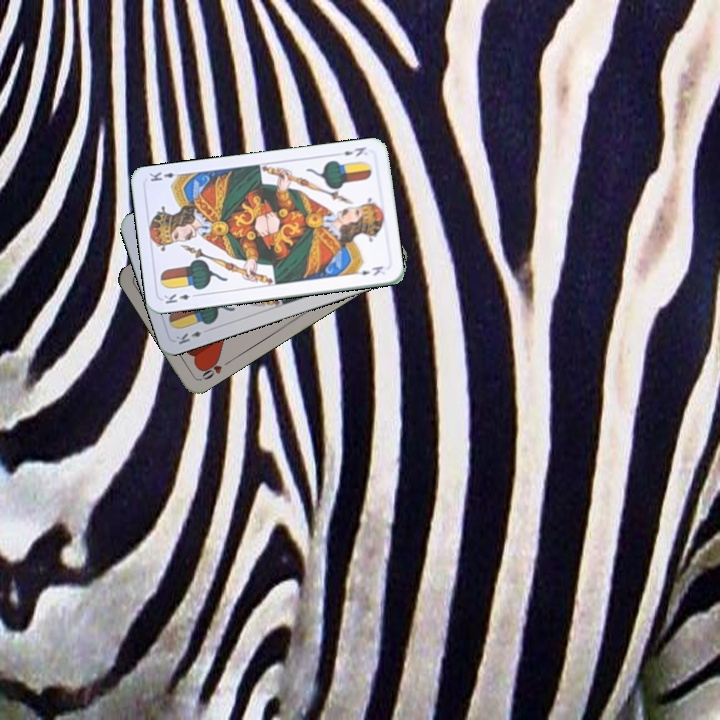EK: (160, 290, 201, 306), (172, 327, 204, 347), (332, 143, 368, 159)
HO: (197, 355, 233, 383)
